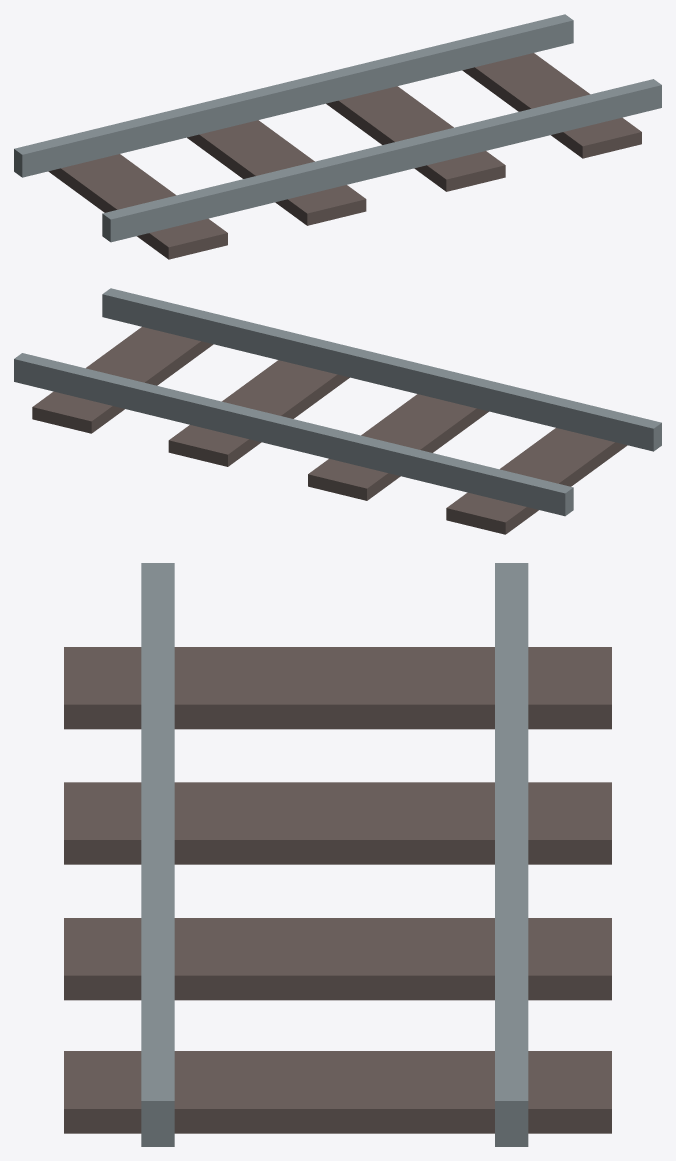
Rendered from Rail-A02.fbx.
3 views of the same model, one above another, from view 1: azimuth 30°, elevation 25°; view 2: azimuth 150°, elevation 25°; view 3: azimuth 270°, elevation 25° (orthographic). The views are drawn at different scales.
Visible parts, largest first — view 1: Rail-A02; view 2: Rail-A02; view 3: Rail-A02.
Boxes of the visible parts, x1,y1,x2,y2 form: Rail-A02: [14, 14, 661, 259]; Rail-A02: [14, 288, 661, 534]; Rail-A02: [64, 563, 611, 1146].
Size of the model in its own units: 457 by 28.05 by 197.
